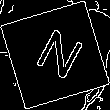N_SW: (25, 23, 85, 87)
